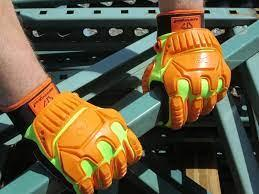gloves: (1, 76, 143, 194), (141, 10, 231, 129)
